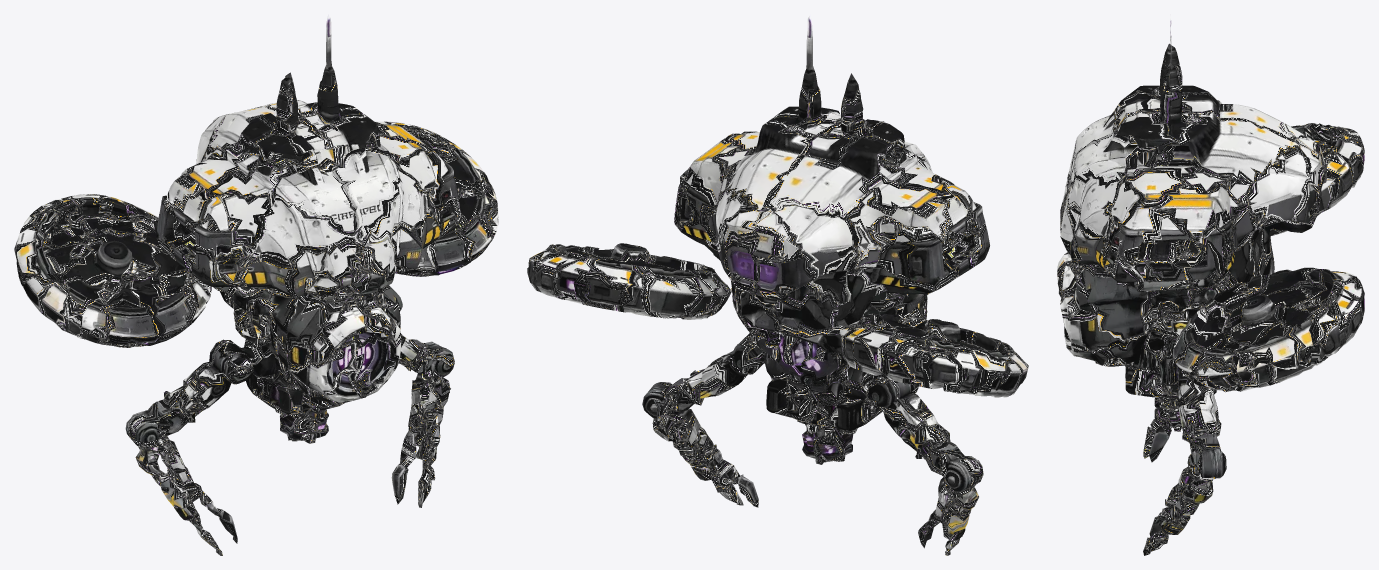
Rendered from sentinel-drone.glb.
3 views of the same model, side by side, from view 1: azimuth 30°, elevation 25°; view 2: azimuth 150°, elevation 25°; view 3: azimuth 270°, elevation 25° (orthographic). The views are drawn at different scales.
Bounding box in the file's own units: 1.78 × 1.88 × 1.04.
1 material, 1 textured.
